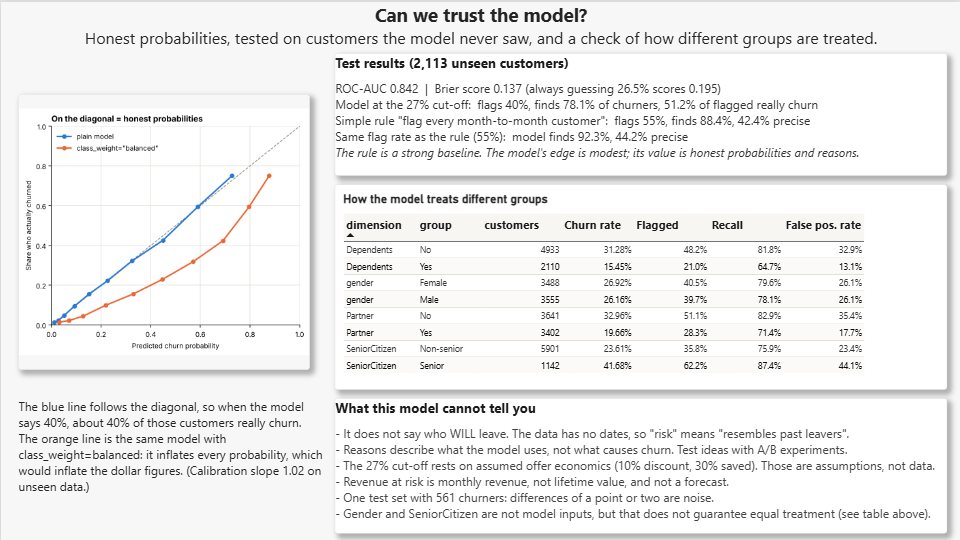

The dashboard page shown, as its layout file describes it:
{"tool":"powerbi","page":{"name":"3. Can we trust the model?","canvas":[1920,1080],"ordinal":2},"visuals":[{"type":"textbox","box":[0,0,1920,127.5],"z":0},{"type":"image","box":[35,185,582.5,550],"z":1000},{"type":"textbox","box":[35,792.5,610,222.5],"z":2000},{"type":"textbox","box":[667.5,102.5,1225,245],"z":3000},{"type":"tableEx","title":"How the model treats different groups","fields":{"Values":["FairnessAudit.dimension","FairnessAudit.group","FairnessAudit.customers","FairnessAudit.actual churn rate","FairnessAudit.flagged","FairnessAudit.recall","FairnessAudit.false-positive rate"]},"box":[667.5,365,1225,410],"z":4000},{"type":"textbox","box":[667.5,792.5,1225,270],"z":5000}]}

Visuals, with their boxes in screenshot pixels (x1, y1, x2, y2), scaled from the page's 1920x1080 canvas onto the 960x540 screenshot:
textbox: <region>0, 0, 959, 64</region>
image: <region>18, 92, 309, 368</region>
textbox: <region>18, 396, 322, 508</region>
textbox: <region>334, 51, 946, 174</region>
"How the model treats different groups" tableEx: <region>334, 182, 946, 388</region>
textbox: <region>334, 396, 946, 531</region>
